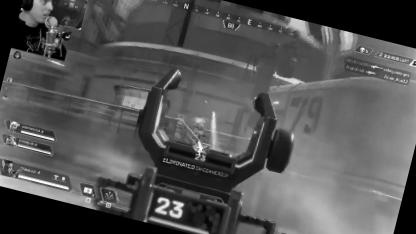Target: (191, 114, 209, 140)
